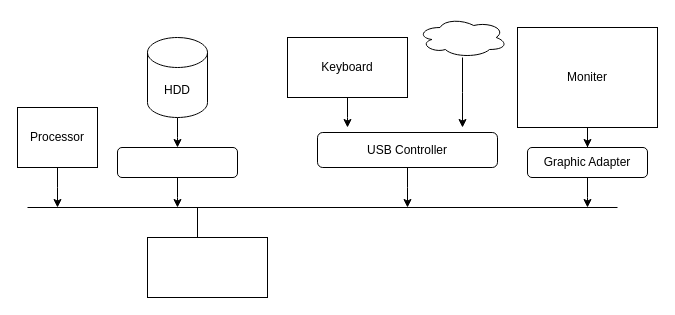
Some shapes in this 675 by 315 pixel diagram are drawn without their labels. Each missing label, with the centre of its shape:
"Disk Controller" belongs at point (177, 162).
"Memory" belongs at point (207, 267).
"Mouse" belongs at point (462, 37).
